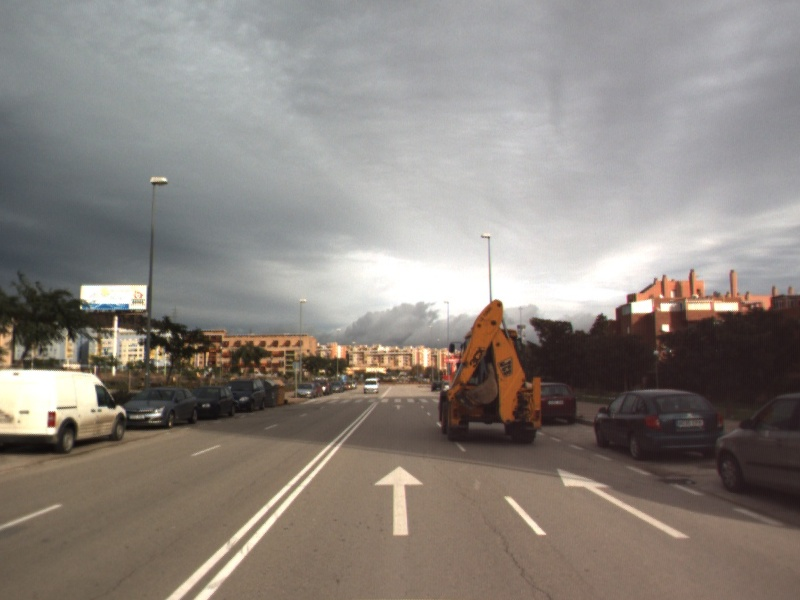STRAIGHT: (555, 466, 692, 540), (372, 464, 425, 538)
